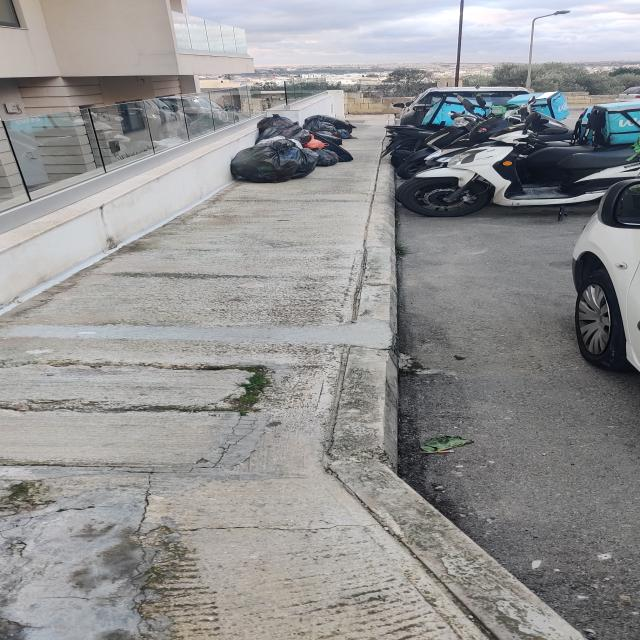Mixed Waste -Black Bags-: (229, 114, 360, 184)
